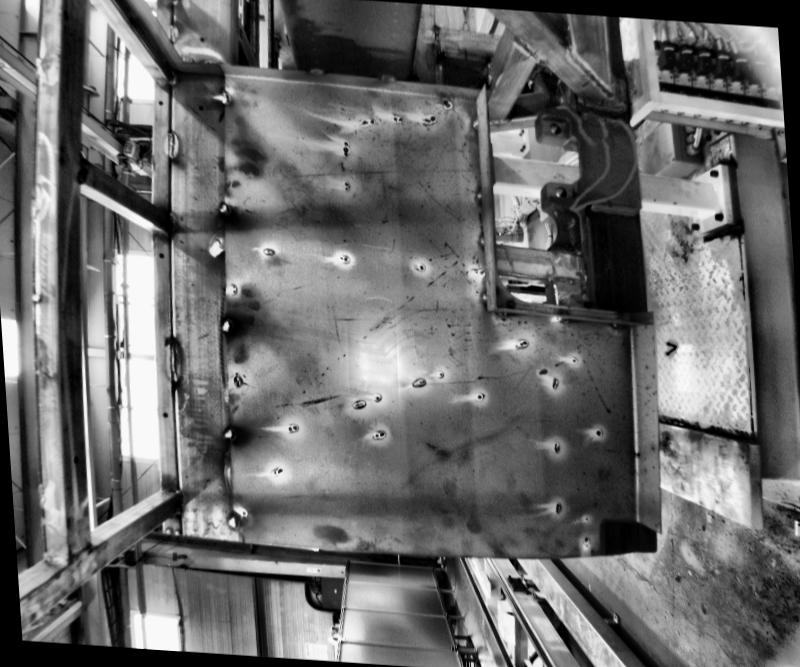hole: (552, 182, 566, 197), (550, 122, 566, 135), (196, 32, 208, 41), (157, 251, 167, 257), (198, 105, 206, 111), (162, 410, 168, 416), (160, 99, 164, 103)
welding: (570, 52, 610, 93), (512, 36, 536, 64), (170, 337, 182, 388), (224, 421, 240, 444), (168, 19, 180, 45), (218, 199, 234, 218), (166, 127, 176, 157), (219, 88, 231, 106), (380, 70, 398, 81), (469, 115, 482, 129), (222, 318, 234, 333), (168, 212, 176, 234), (474, 186, 486, 200), (228, 512, 240, 526), (608, 320, 626, 329), (476, 231, 486, 244), (549, 315, 569, 320), (312, 67, 324, 75), (481, 291, 487, 303), (494, 310, 504, 315)
